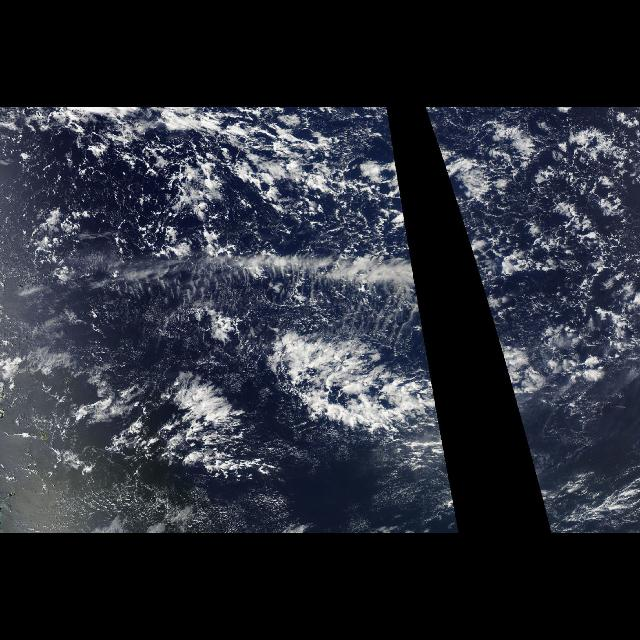Fish: (25, 225, 451, 489), (461, 225, 569, 489)
Gravel: (0, 109, 412, 263), (426, 112, 640, 252)
